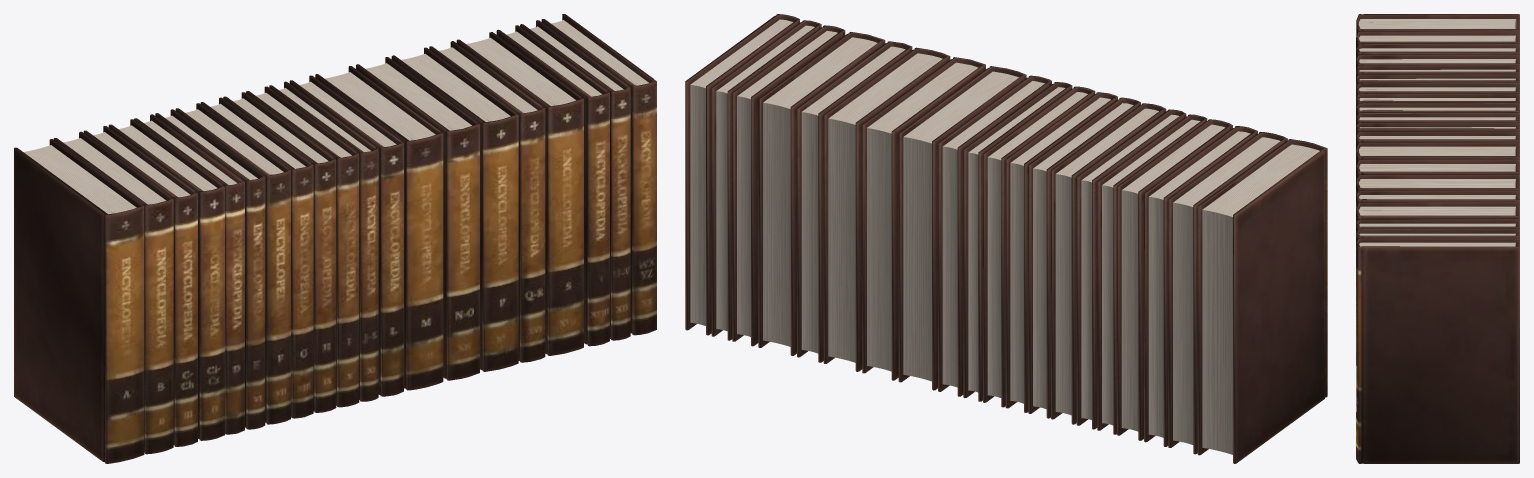
File: book_encyclopedia_set_01.glb
3 renders of one model, left to right at view 1: azimuth 30°, elevation 25°; view 2: azimuth 150°, elevation 25°; view 3: azimuth 270°, elevation 25°, orthographic. The views are drawn at different scales.
Parts seen in each view (by area): view 1: book_encyclopedia_set_01_book01; view 2: book_encyclopedia_set_01_book01; view 3: book_encyclopedia_set_01_book01.
Boxes of the visible parts, x1=… form: book_encyclopedia_set_01_book01: x1=14, y1=14, x2=656, y2=463; book_encyclopedia_set_01_book01: x1=685, y1=14, x2=1327, y2=463; book_encyclopedia_set_01_book01: x1=1356, y1=14, x2=1519, y2=463.
Bounding box in the file's own units: 0.5513 × 0.2374 × 0.1631.
Materials: 2 (2 with a texture image).
